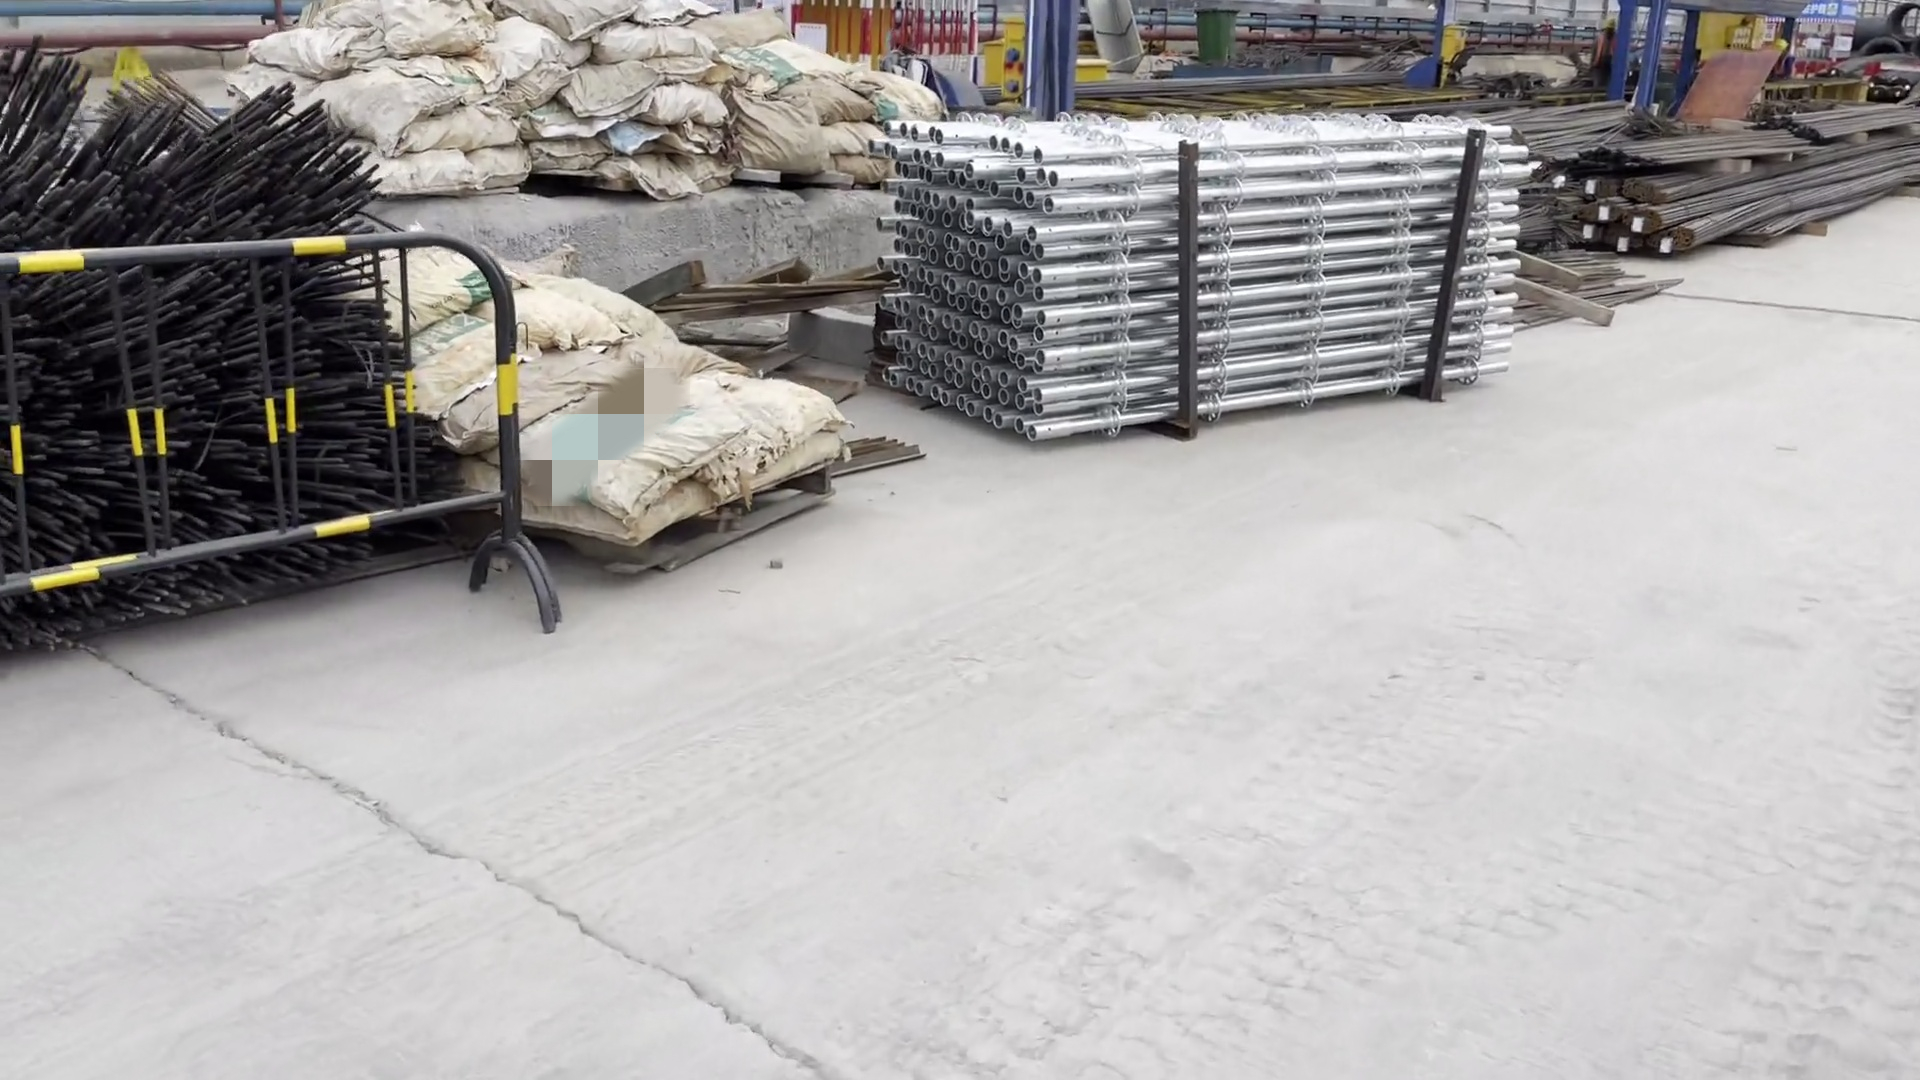ebox: (977, 9, 1040, 117), (1443, 17, 1477, 71)
rebar: (1528, 94, 1917, 268)
scaffold: (849, 108, 1555, 444)
